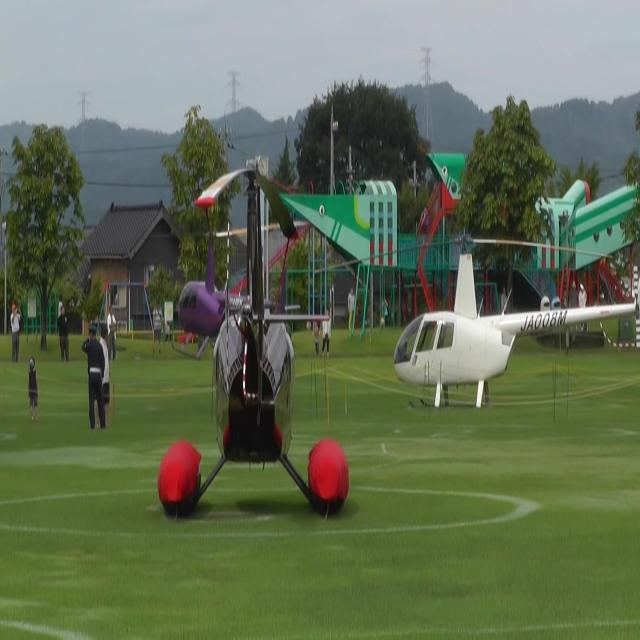CIV_HELO: (168, 230, 300, 364)
